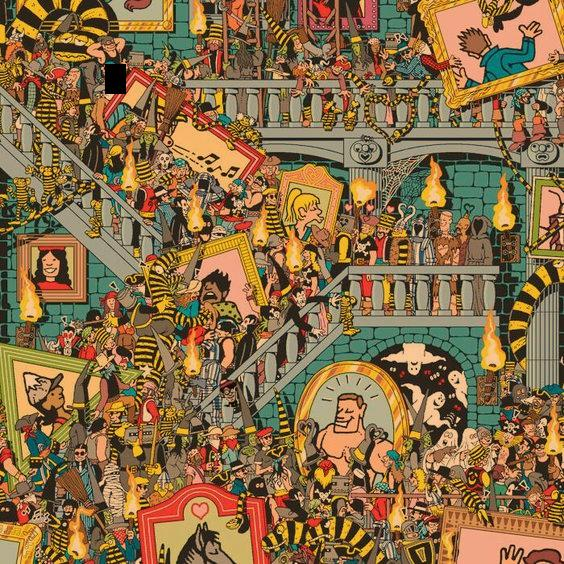waldos: (218, 377, 239, 407)
